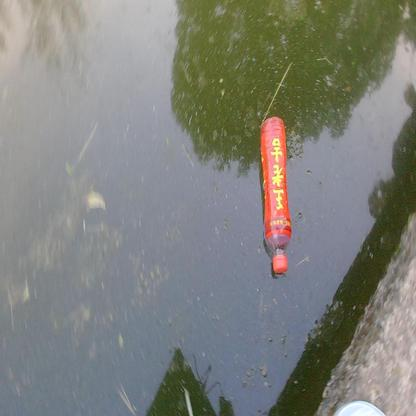plastic bottle: (259, 116, 292, 275)
